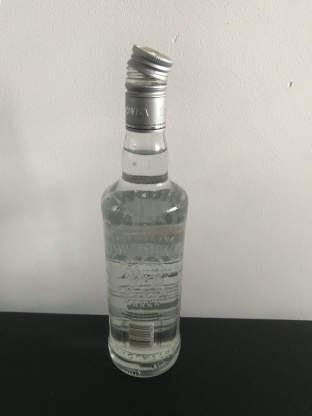nakretka: (123, 41, 174, 133)
